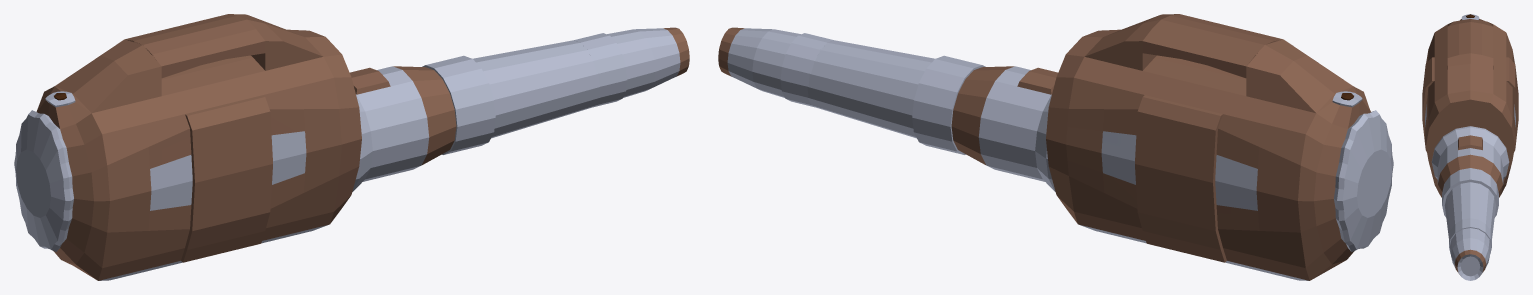
File: vacuum03.fbx
The picture shows the model from 3 angles, left to right: view 1: azimuth 30°, elevation 25°; view 2: azimuth 150°, elevation 25°; view 3: azimuth 270°, elevation 25°; orthographic projection. The views are drawn at different scales.
Parts seen in each view (by area): view 1: Wind Gun; view 2: Wind Gun; view 3: Wind Gun.
Boxes of the visible parts, box(x1,y1,x2,y2) form: Wind Gun: box(14, 14, 689, 280); Wind Gun: box(718, 14, 1393, 280); Wind Gun: box(1422, 14, 1518, 280).
Size of the model in its own units: 22.56 by 6.97 by 4.74.
